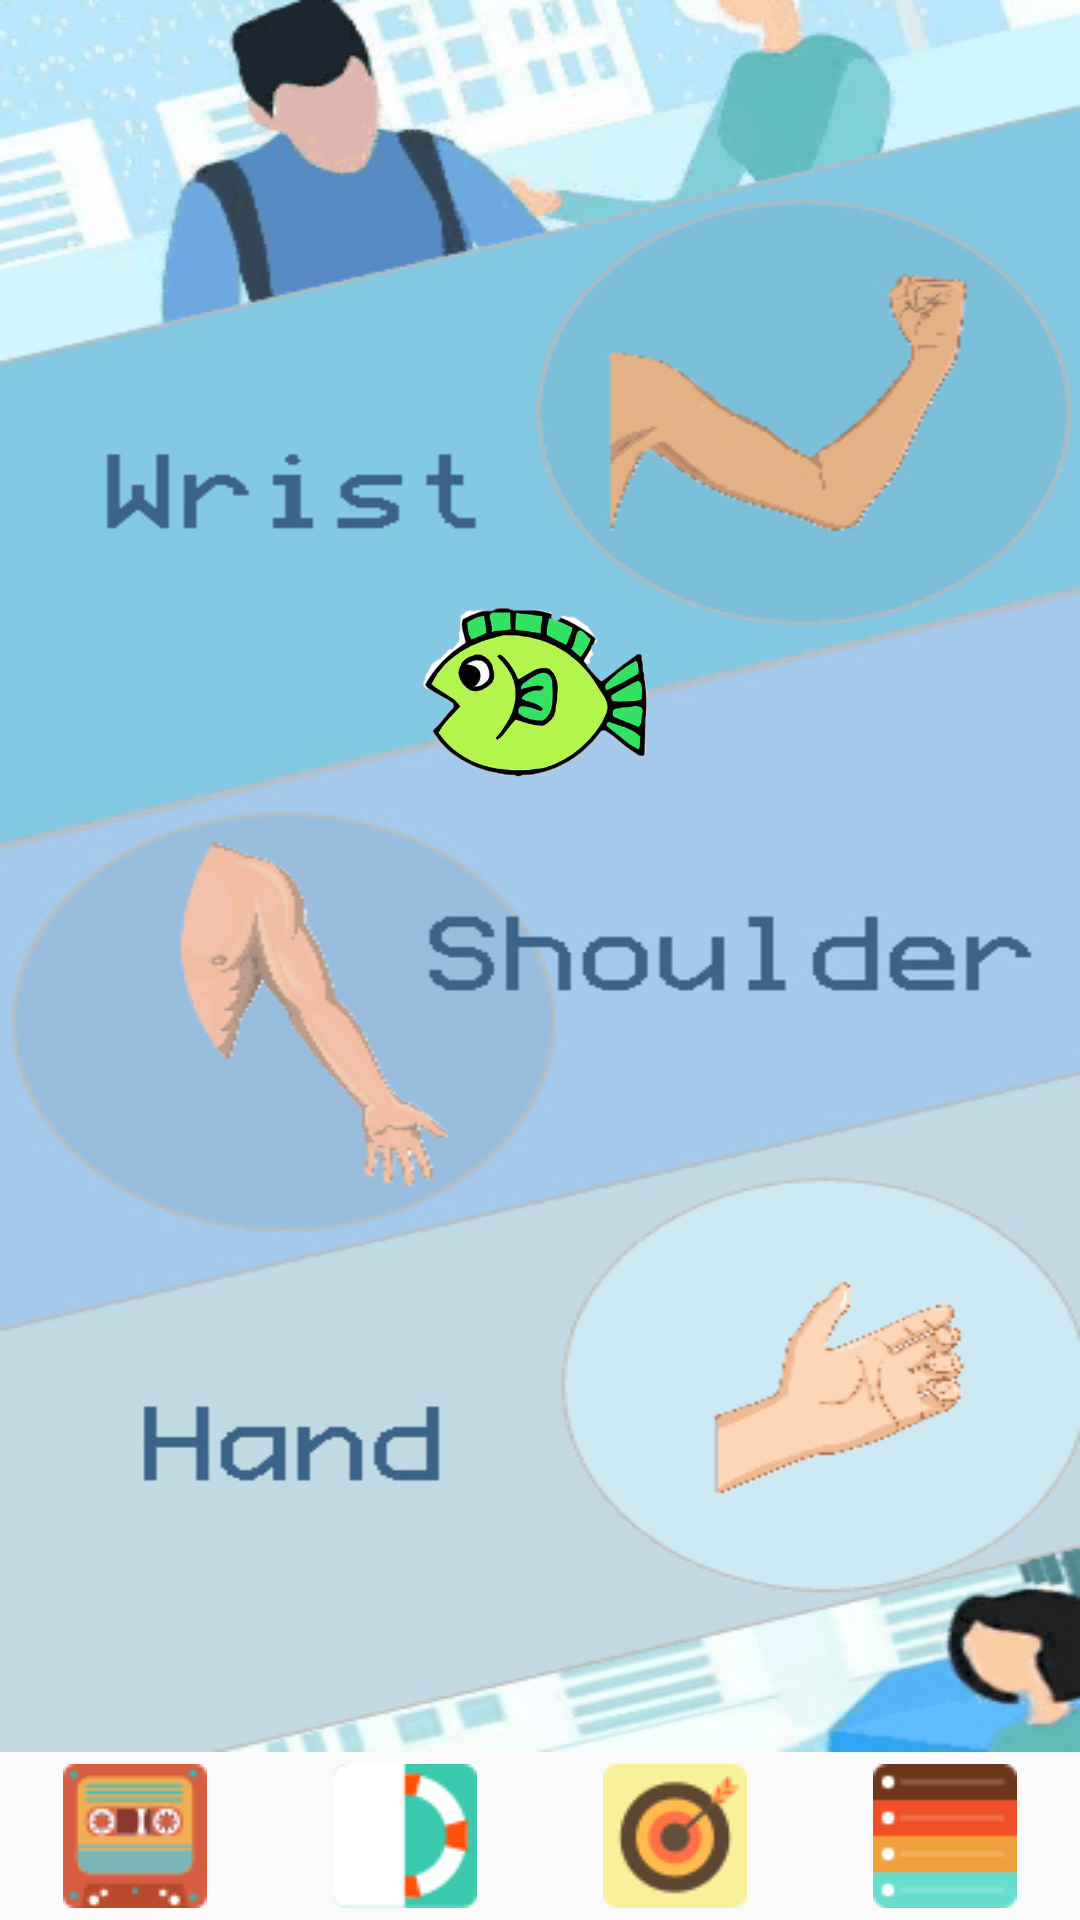

Icon click points for this 1080px x 1920px phone screenshot, format [x,y]:
fish: [510,690]
